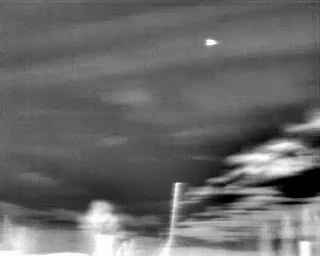BIRD: (202, 34, 224, 51)
